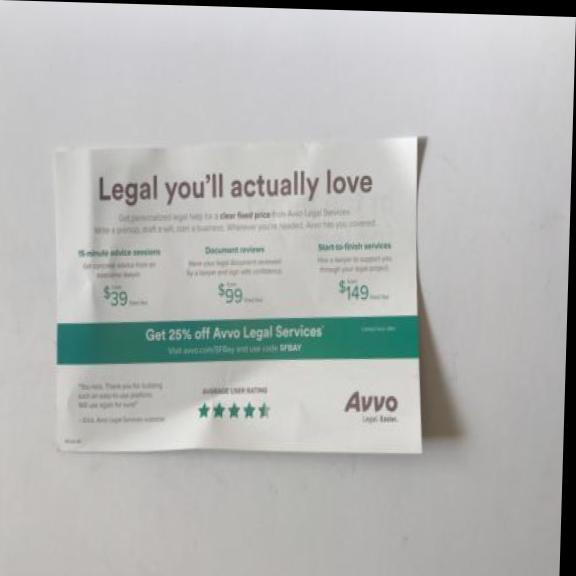Kertas: (40, 120, 437, 471)
